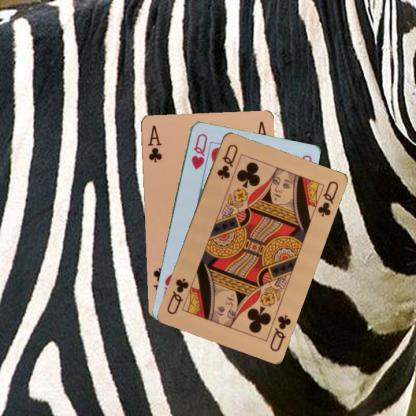Ac: (144, 122, 163, 164)
Qc: (267, 312, 292, 352), (214, 141, 239, 180)
Qh: (188, 130, 209, 170)
